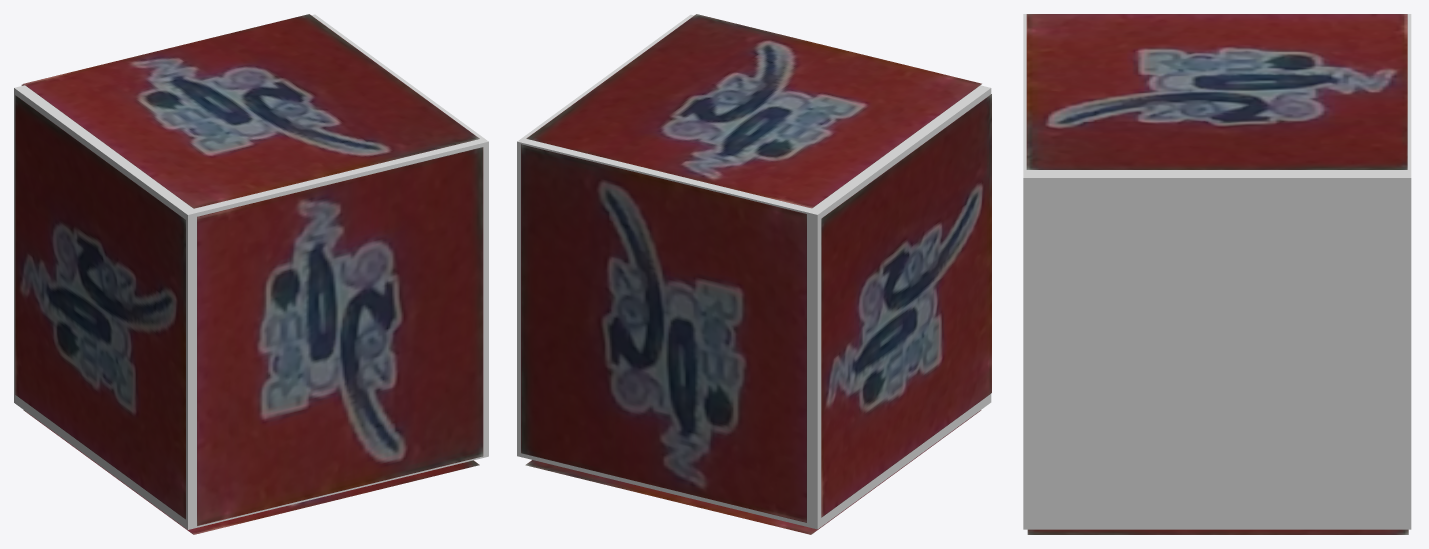
3 views of the same model, side by side, from view 1: azimuth 30°, elevation 25°; view 2: azimuth 150°, elevation 25°; view 3: azimuth 270°, elevation 25° (orthographic). The views are drawn at different scales.
Visible parts, largest first — view 1: fake2.png.005, fake2.png.001, fake2.png.003, Link35, fake2.png.004; view 2: fake2.png.002, fake2.png.001, fake2.png.003, Link35, fake2.png.004; view 3: Link35, fake2.png.003, fake2.png.004.
Part boxes in pixels (x1,y1,x2,y2): fake2.png.005: [197, 147, 483, 525]; fake2.png.001: [15, 95, 185, 519]; fake2.png.003: [23, 14, 479, 208]; Link35: [14, 14, 488, 529]; fake2.png.004: [23, 410, 479, 534]; fake2.png.002: [521, 144, 806, 522]; fake2.png.001: [821, 94, 991, 517]; fake2.png.003: [526, 14, 981, 208]; Link35: [517, 14, 991, 529]; fake2.png.004: [525, 410, 981, 534]; Link35: [1023, 14, 1411, 529]; fake2.png.003: [1026, 14, 1407, 169]; fake2.png.004: [1027, 529, 1408, 534].
Bounding box in the file's own units: 0.3515 × 0.3561 × 0.3629.
Materials: 1 (1 with a texture image).
